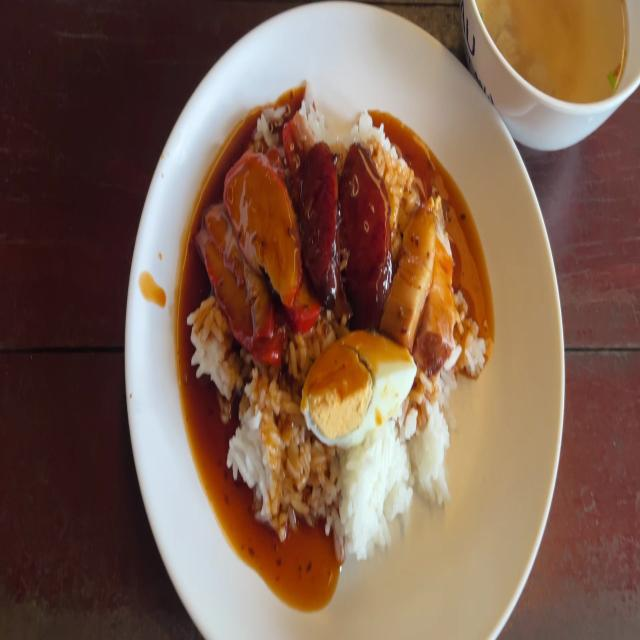01boiled_egg: (307, 336, 417, 434)
01chainese_sausage: (299, 145, 392, 324), (342, 138, 384, 317), (297, 139, 332, 300)
01crispy_pork: (394, 178, 456, 366)
01red_pork: (205, 154, 302, 350), (204, 216, 273, 348), (229, 158, 295, 281)
01red_pork_and_crispy_pork: (187, 98, 491, 565)
01rice: (234, 368, 308, 516), (339, 438, 408, 543), (409, 376, 457, 489), (192, 299, 234, 400), (460, 303, 488, 383)
